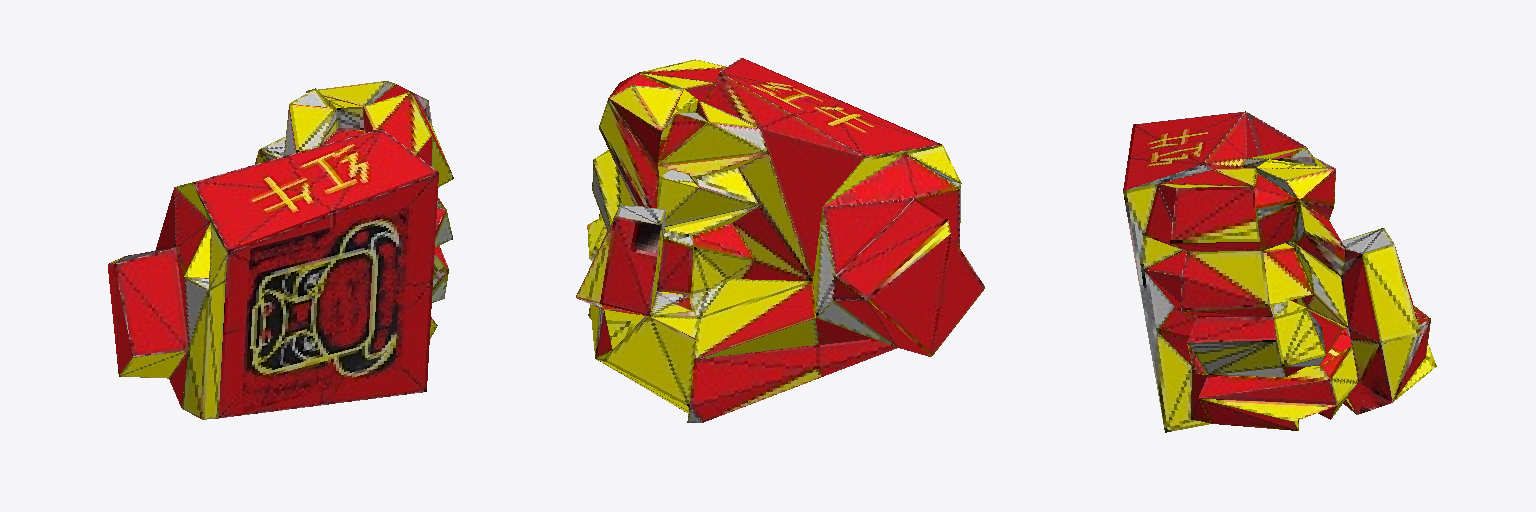
The picture shows the model from 3 angles: view 1: azimuth 30°, elevation 25°; view 2: azimuth 150°, elevation 25°; view 3: azimuth 270°, elevation 25°; orthographic projection.
Parts seen in each view (by area): view 1: fist; view 2: fist; view 3: fist.
Boxes of the visible parts, <box> form: fist: <box>108,81,453,419</box>; fist: <box>576,58,984,422</box>; fist: <box>1123,111,1436,432</box>.
Size of the model in its own units: 19.22 by 15.15 by 15.35.
Materials: 1 (1 with a texture image).